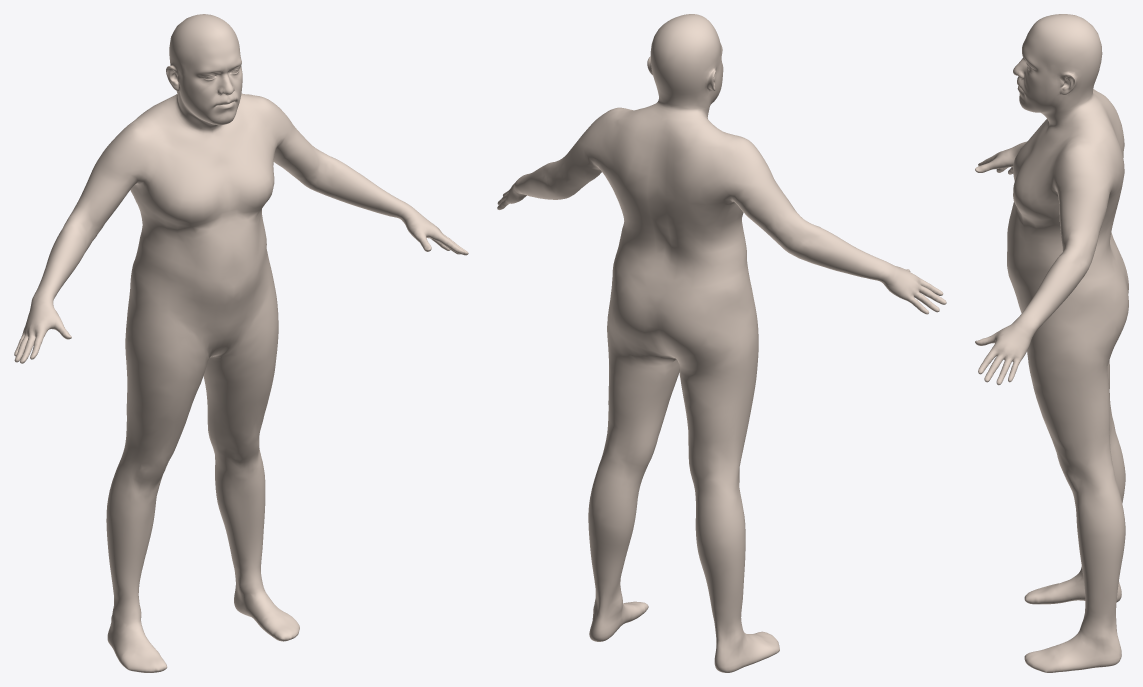
File: mhr-tall.glb
3 renders of one model, left to right at view 1: azimuth 30°, elevation 25°; view 2: azimuth 150°, elevation 25°; view 3: azimuth 270°, elevation 25°, orthographic.
Parts seen in each view (by area): view 1: mhr-tall; view 2: mhr-tall; view 3: mhr-tall.
Boxes of the visible parts, bbox=[...] form: mhr-tall: bbox=[14, 14, 468, 672]; mhr-tall: bbox=[497, 14, 946, 672]; mhr-tall: bbox=[975, 14, 1128, 672].
Bounding box in the file's own units: 1.31 × 1.75 × 0.3962.
